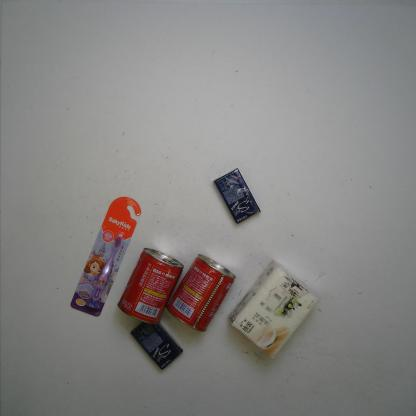Canned Food: (166, 254, 236, 333), (117, 248, 184, 324)
Gum: (130, 316, 182, 369), (213, 168, 261, 224)
Personal Hygiene: (70, 197, 141, 317)
Tissue: (228, 260, 319, 359)
